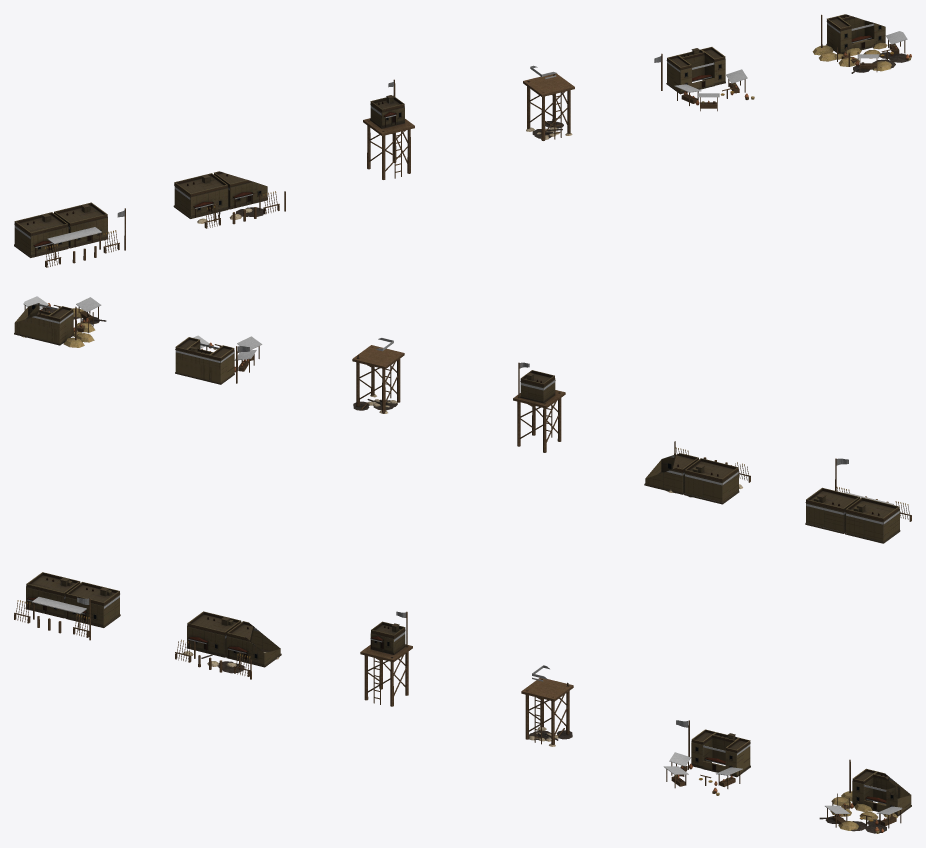
The model's file is rts-classical-steppe.glb.
The picture shows the model from 3 angles, top to bottom: view 1: azimuth 30°, elevation 25°; view 2: azimuth 150°, elevation 25°; view 3: azimuth 330°, elevation 25°; orthographic projection.
Visible parts, largest first — view 1: LOD0, LOD0.001, LOD0.005, LOD0.004, LOD0.002, LOD0.003; view 2: LOD0, LOD0.001, LOD0.005, LOD0.004, LOD0.002, LOD0.003; view 3: LOD0, LOD0.001, LOD0.005, LOD0.004, LOD0.002, LOD0.003.
Part boxes in pixels (box(x1,y1,x2,y2)): LOD0: box(14, 202, 125, 267); LOD0.001: box(173, 171, 285, 228); LOD0.005: box(812, 14, 911, 73); LOD0.004: box(654, 47, 754, 111); LOD0.002: box(363, 79, 414, 179); LOD0.003: box(523, 65, 574, 140); LOD0: box(805, 458, 911, 543); LOD0.001: box(644, 441, 750, 504); LOD0.005: box(14, 296, 106, 347); LOD0.004: box(175, 335, 262, 384); LOD0.002: box(513, 362, 565, 452); LOD0.003: box(352, 338, 404, 413); LOD0: box(14, 572, 120, 640); LOD0.001: box(175, 611, 281, 679); LOD0.005: box(819, 759, 911, 833); LOD0.004: box(663, 720, 750, 795); LOD0.002: box(360, 611, 412, 706); LOD0.003: box(521, 665, 573, 746).
Size of what is drawn, in the model's own units: 16.35 by 1.48 by 1.37.
2 materials, 2 textured.
